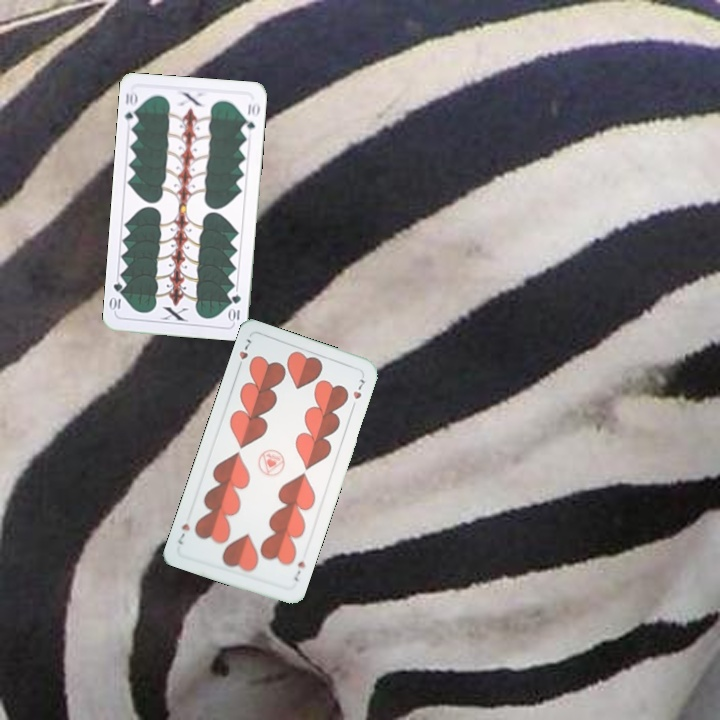G10: (121, 87, 141, 128), (226, 290, 243, 325)
H7: (234, 334, 255, 373), (290, 557, 308, 584)
